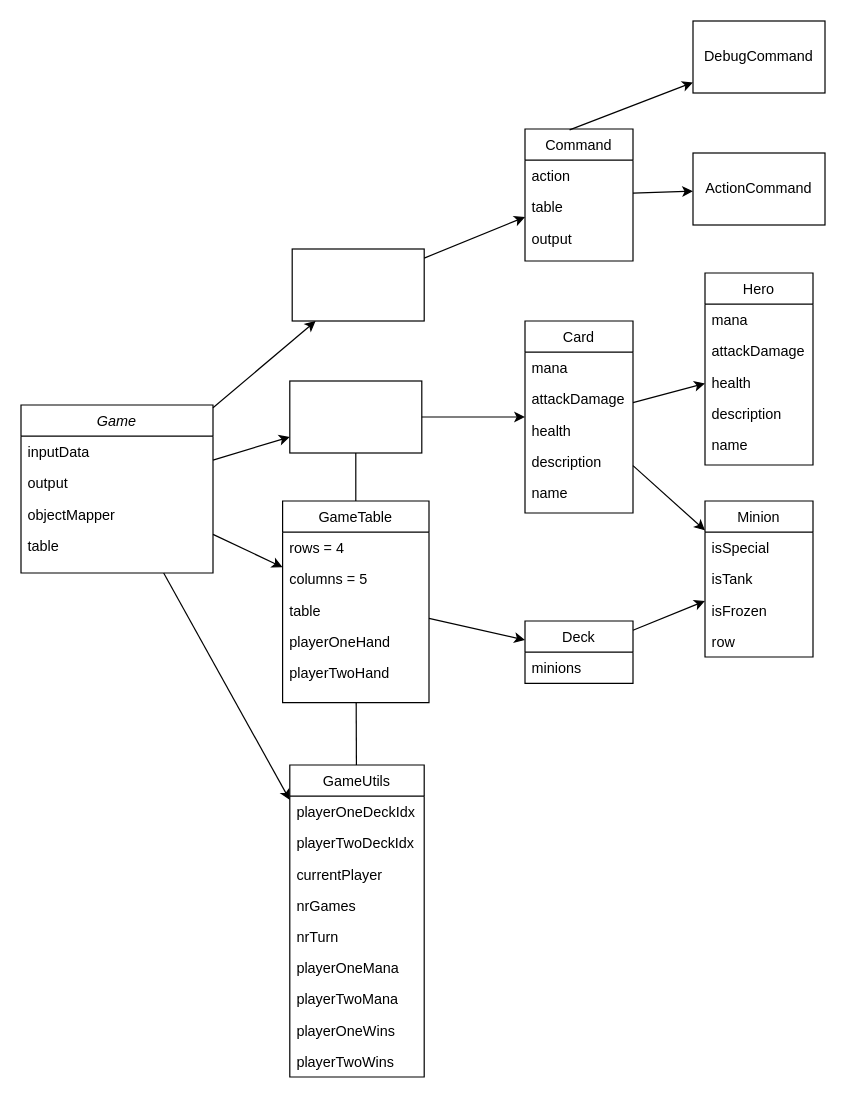
Image size: 846x1102. Some labels were removed from this diagram. Each missing label, with the centre of its shape:
"CardFactory" goes at pixel 355 416.
"CommandOrganizer" goes at pixel 357 284.
